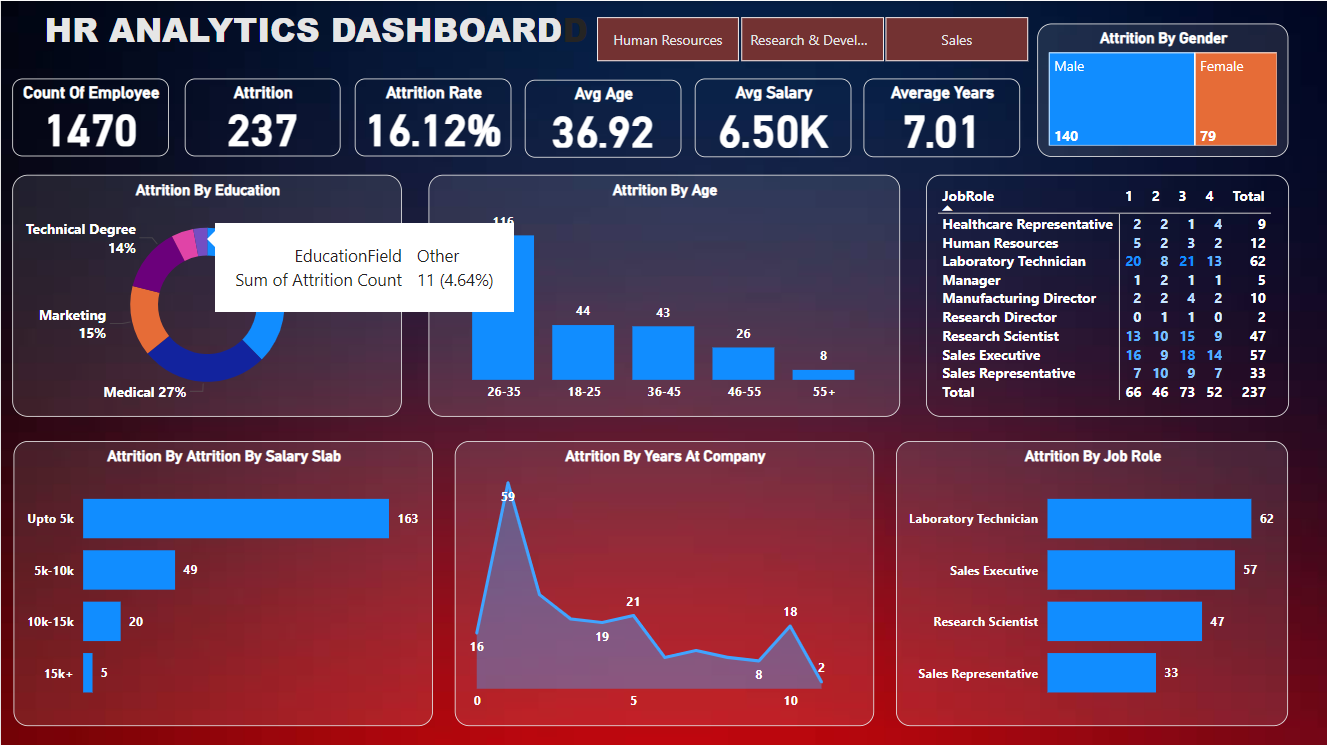

What the dashboard file says about the page in this screenshot:
{"tool":"powerbi","page":{"name":"HR Analytics Dashboard","canvas":[1280,720],"ordinal":0},"visuals":[{"type":"card","title":"Count Of Employee","fields":{"Values":["CountNonNull(HR_Analytics.EmpID)"]},"box":[11.2,75,151.2,75],"z":0},{"type":"card","title":"Attrition","fields":{"Values":["Sum(HR_Analytics.Attrition Count)"]},"box":[177.5,75,150,75],"z":1000},{"type":"card","title":"Attrition Rate","fields":{"Values":["HR_Analytics.Attrition Rate"]},"box":[341.2,75,151.2,75],"z":2000},{"type":"card","title":"Avg Age","fields":{"Values":["Avg(HR_Analytics.Age)"]},"box":[505,76.2,151.2,75],"z":2001},{"type":"card","title":"Avg Salary","fields":{"Values":["Avg(HR_Analytics.MonthlyIncome)"]},"box":[670,75,151.2,76.2],"z":2002},{"type":"card","title":"Average Years","fields":{"Values":["Avg(HR_Analytics.YearsAtCompany)"]},"box":[832.5,75,151.2,76.2],"z":2003},{"type":"donutChart","title":"Attrition By Education","fields":{"Category":["HR_Analytics.EducationField"],"Y":["Sum(HR_Analytics.Attrition Count)"]},"box":[11.2,167.5,376.2,233.8],"z":2004},{"type":"columnChart","title":"Attrition By Age","fields":{"Y":["Sum(HR_Analytics.Attrition Count)"],"Category":["HR_Analytics.AgeGroup"]},"box":[412.5,167.5,455,233.8],"z":2006},{"type":"pivotTable","fields":{"Rows":["HR_Analytics.JobRole"],"Columns":["HR_Analytics.JobSatisfaction"],"Values":["Sum(HR_Analytics.Attrition Count)"]},"box":[892.5,167.5,350,233.8],"z":2007},{"type":"barChart","title":"Attrition By Attrition By Salary Slab","fields":{"Category":["HR_Analytics.SalarySlab"],"Y":["Sum(HR_Analytics.Attrition Count)"]},"box":[12.5,425,405,275],"z":2008},{"type":"barChart","title":"Attrition By Job Role","fields":{"Category":["HR_Analytics.JobRole"],"Y":["Sum(HR_Analytics.Attrition Count)"]},"box":[863.8,425,378.8,275],"z":2009},{"type":"areaChart","title":"Attrition By Years At Company","fields":{"Category":["HR_Analytics.YearsAtCompany"],"Y":["Sum(HR_Analytics.Attrition Count)"]},"box":[437.5,425,405,275],"z":2010},{"type":"treemap","title":"Attrition By Gender","fields":{"Group":["HR_Analytics.Gender"],"Values":["Sum(HR_Analytics.Attrition Count)"]},"box":[1000,21.2,242.5,128.8],"z":2011},{"type":"slicer","fields":{"Values":["HR_Analytics.Department"]},"box":[548.8,8.8,466.2,56.2],"z":2012},{"type":"textbox","box":[25,0,546.2,75],"z":2013}]}

Visuals, with their boxes in screenshot pixels (x1, y1, x2, y2), scaled from the page's 1280x720 canvas onto the 1327x745 screenshot:
"Count Of Employee" card: (12,78,168,155)
"Attrition" card: (184,78,340,155)
"Attrition Rate" card: (354,78,510,155)
"Avg Age" card: (524,79,680,156)
"Avg Salary" card: (695,78,851,156)
"Average Years" card: (863,78,1020,156)
"Attrition By Education" donutChart: (12,173,402,415)
"Attrition By Age" columnChart: (428,173,899,415)
pivotTable - HR_Analytics.JobRole x HR_Analytics.JobSatisfaction: (925,173,1288,415)
"Attrition By Attrition By Salary Slab" barChart: (13,440,433,724)
"Attrition By Job Role" barChart: (896,440,1288,724)
"Attrition By Years At Company" areaChart: (454,440,873,724)
"Attrition By Gender" treemap: (1037,22,1288,155)
slicer - HR_Analytics.Department: (569,9,1052,67)
textbox: (26,0,592,78)
